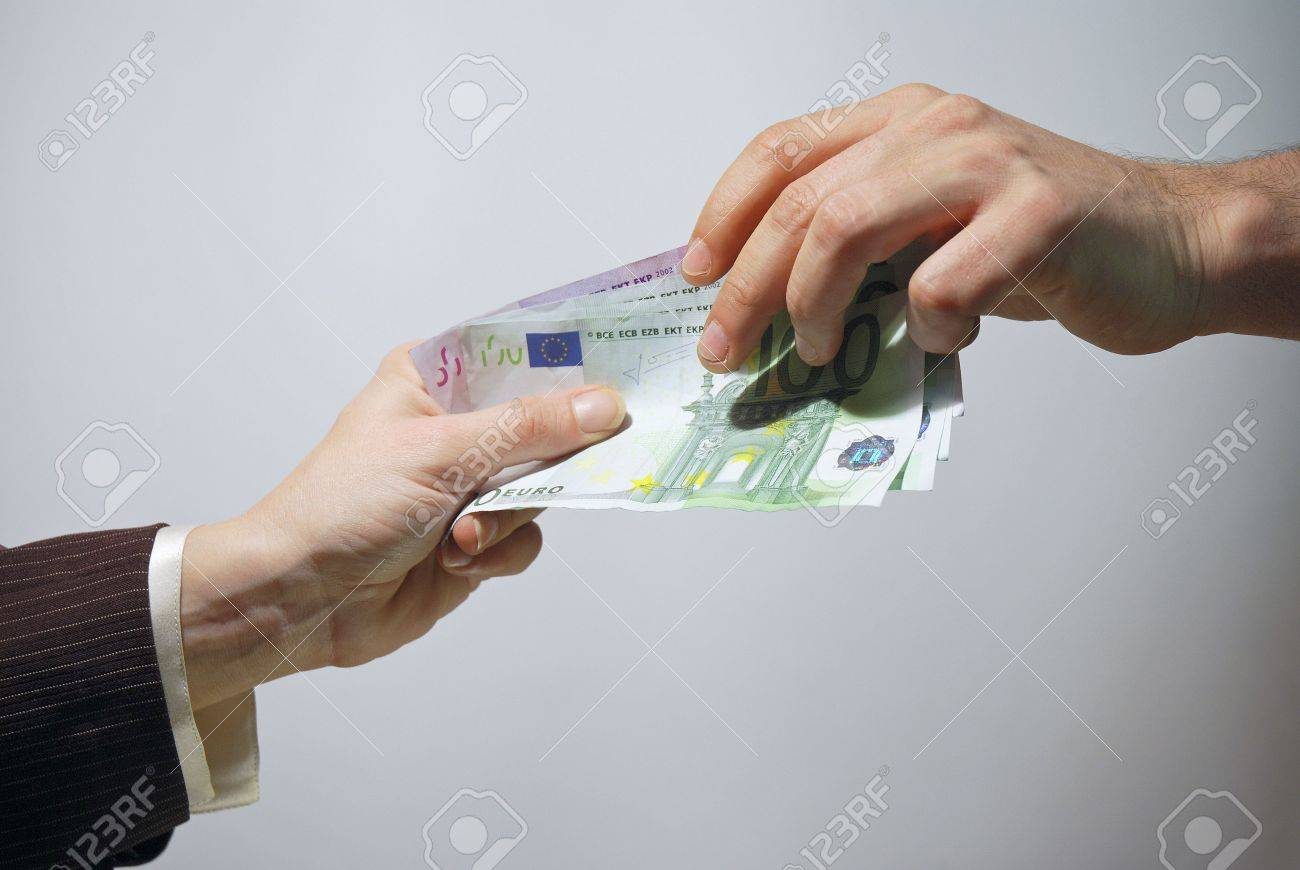billete: (401, 226, 970, 540)
